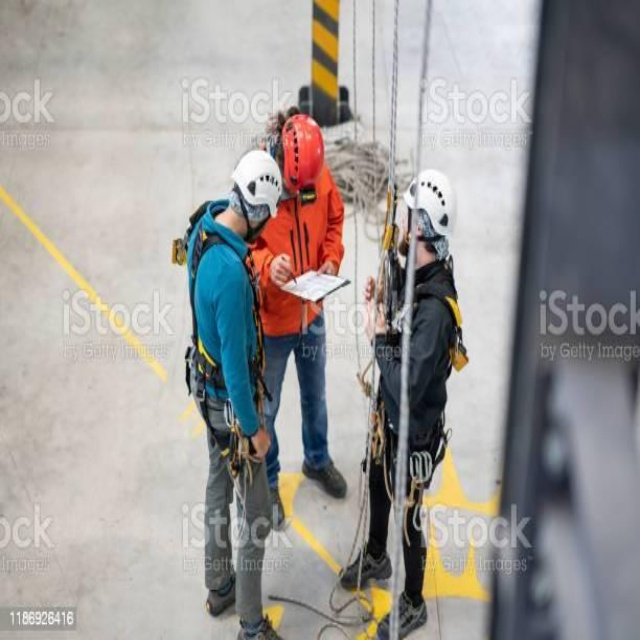Arnes_seguridad: (180, 201, 273, 487), (366, 243, 466, 506)
